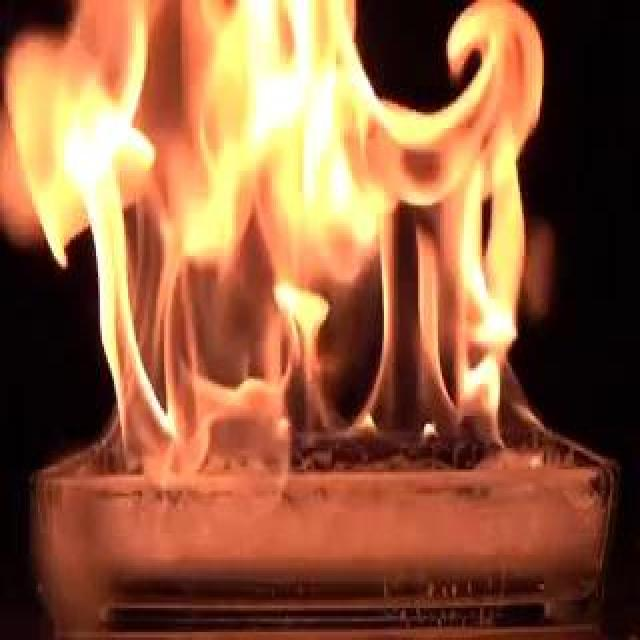Fire: (29, 2, 569, 498)
